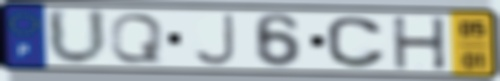6: (252, 11, 304, 70)
C: (323, 15, 390, 70)
H: (389, 15, 450, 71)
J: (190, 12, 238, 68)
Q: (108, 12, 166, 65)
U: (44, 7, 111, 68)
